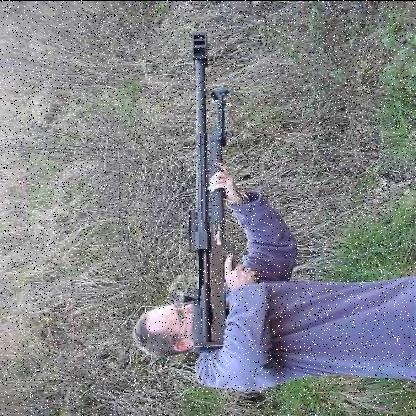rifle: (169, 22, 270, 350)
